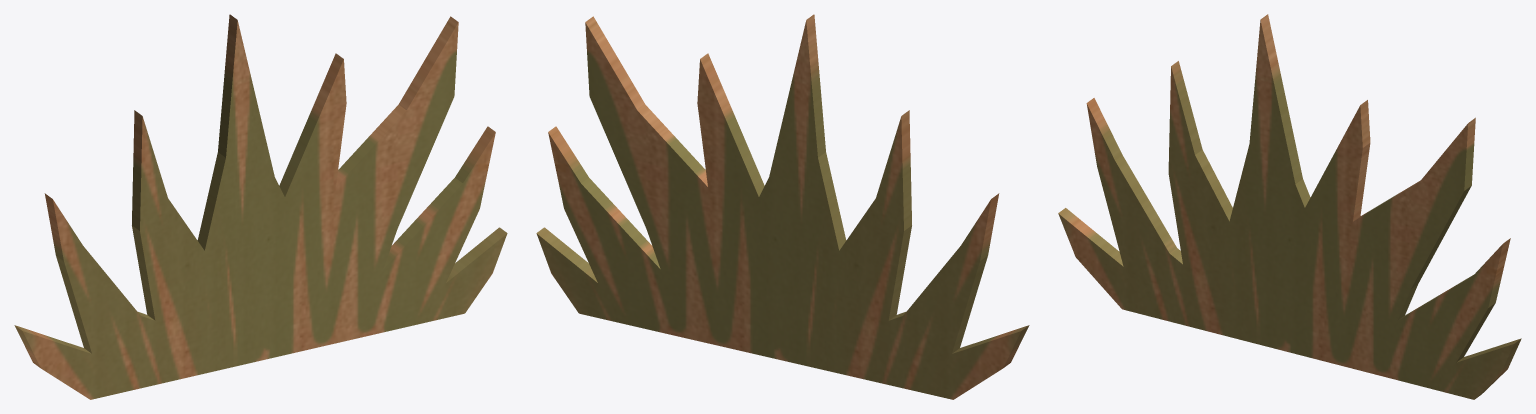
File: bush_2.FBX
3 renders of one model, left to right at view 1: azimuth 30°, elevation 25°; view 2: azimuth 150°, elevation 25°; view 3: azimuth 330°, elevation 25°, orthographic. The views are drawn at different scales.
Visible parts, largest first — view 1: bush_2; view 2: bush_2; view 3: bush_2.
Boxes of the visible parts, x1,y1,x2,y2 form: bush_2: [14, 14, 507, 399]; bush_2: [536, 14, 1029, 399]; bush_2: [1058, 14, 1521, 399].
Bounding box in the file's own units: 242 × 166 × 7.
1 material, 1 textured.
